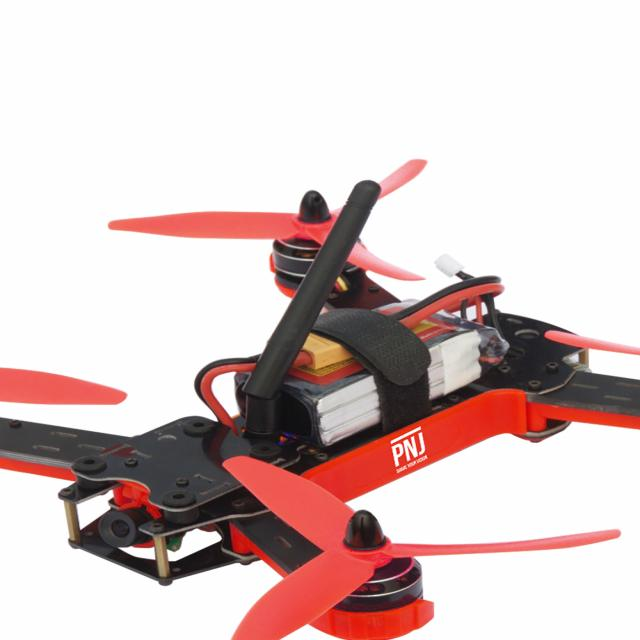drone: (0, 154, 640, 622)
